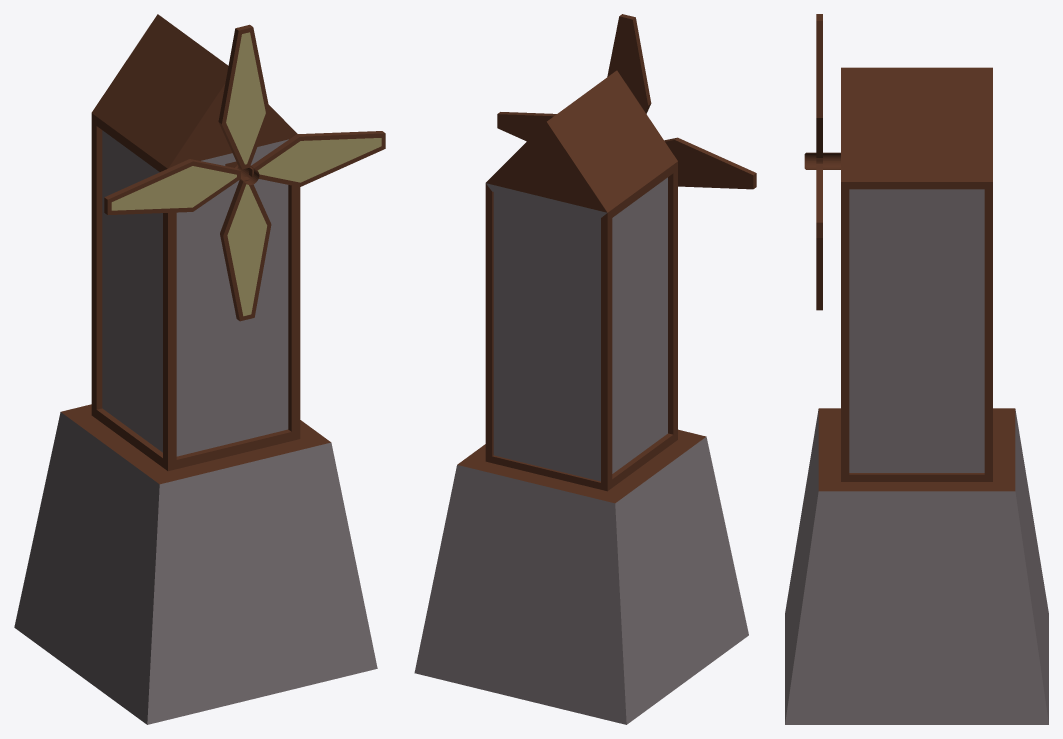
The model's file is mill.glb.
3 renders of one model, left to right at view 1: azimuth 30°, elevation 25°; view 2: azimuth 150°, elevation 25°; view 3: azimuth 270°, elevation 25°, orthographic. The views are drawn at different scales.
Visible parts, largest first — view 1: Base, Pals; view 2: Base, Pals; view 3: Base, Pals, RoundNose.
Boxes of the visible parts, x1,y1,x2,y2 form: Base: (14,14,377,724); Pals: (104,24,385,321); Base: (414,70,748,724); Pals: (497,14,756,189); Base: (785,67,1048,724); Pals: (816,14,822,310); RoundNose: (804,152,840,169).
Bounding box in the file's own units: 2.41 × 5.45 × 2.
